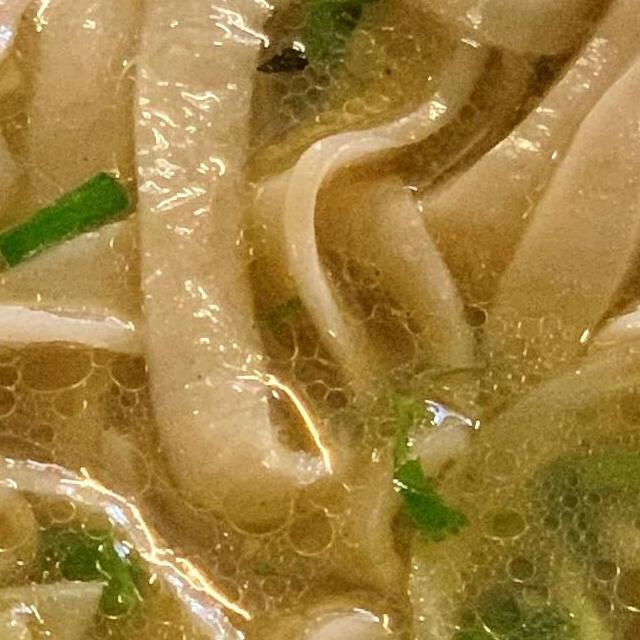banh pho: (80, 0, 640, 617), (0, 258, 259, 640), (115, 478, 640, 640)
pho bo: (0, 0, 640, 640)
